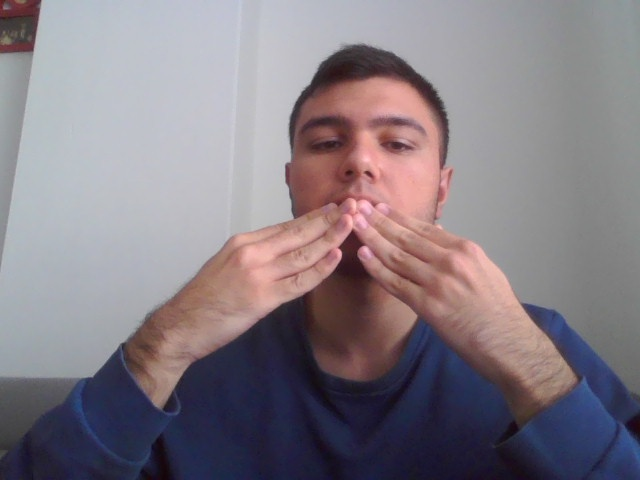thanks: (151, 200, 583, 380)
